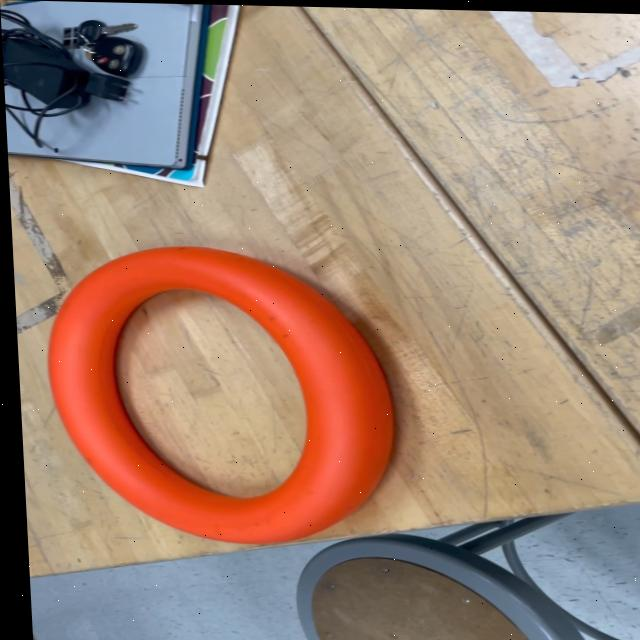note: (37, 246, 398, 548)
